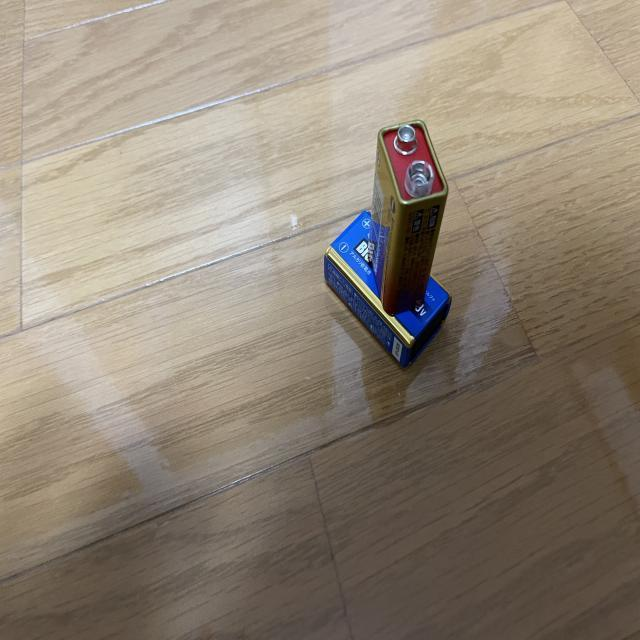9V: (323, 209, 452, 368), (366, 118, 449, 315)
